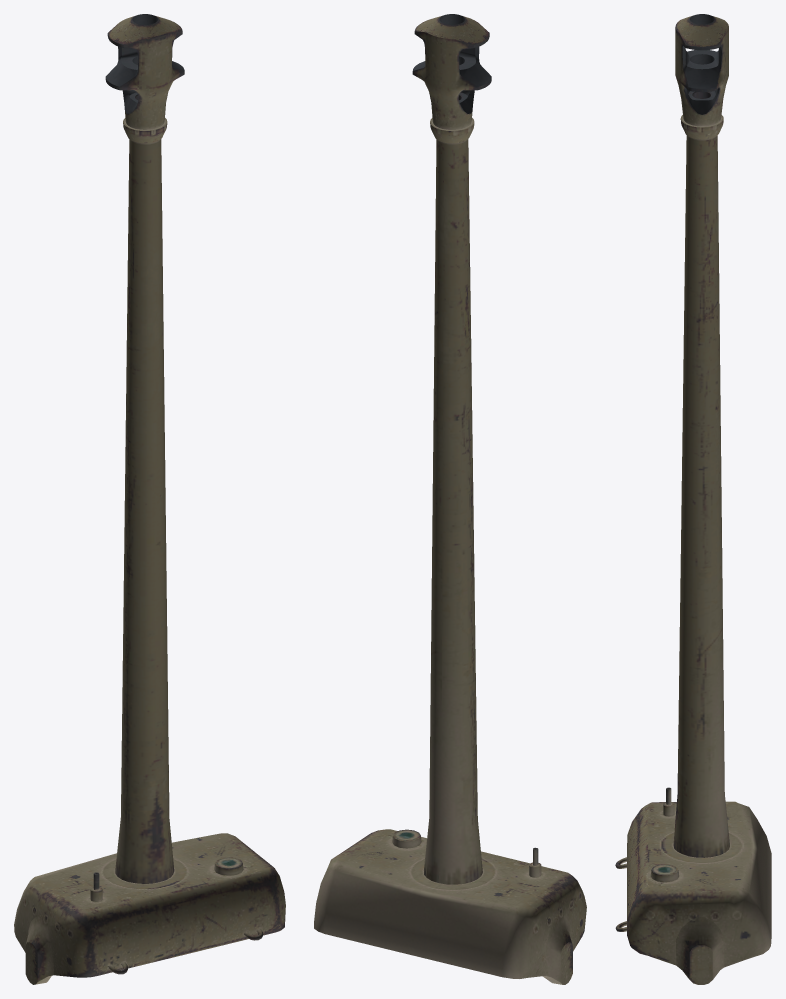
The model's file is Gun_02.glb.
The picture shows the model from 3 angles, left to right: view 1: azimuth 30°, elevation 25°; view 2: azimuth 150°, elevation 25°; view 3: azimuth 270°, elevation 25°; orthographic projection. The views are drawn at different scales.
Parts seen in each view (by area): view 1: set_0_group_0; view 2: set_0_group_0; view 3: set_0_group_0.
Part boxes in pixels (x1,y1,x2,y2): set_0_group_0: (14, 14, 285, 984); set_0_group_0: (314, 14, 586, 984); set_0_group_0: (615, 14, 771, 984).
Size of the model in its own units: 1.54 by 5.85 by 0.9106.
Materials: 1 (1 with a texture image).
